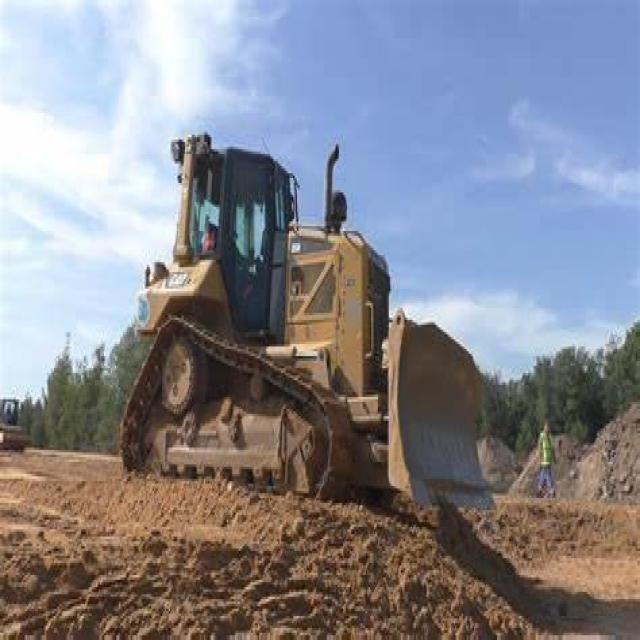buldozerpayloadergrader: (106, 84, 550, 544)
